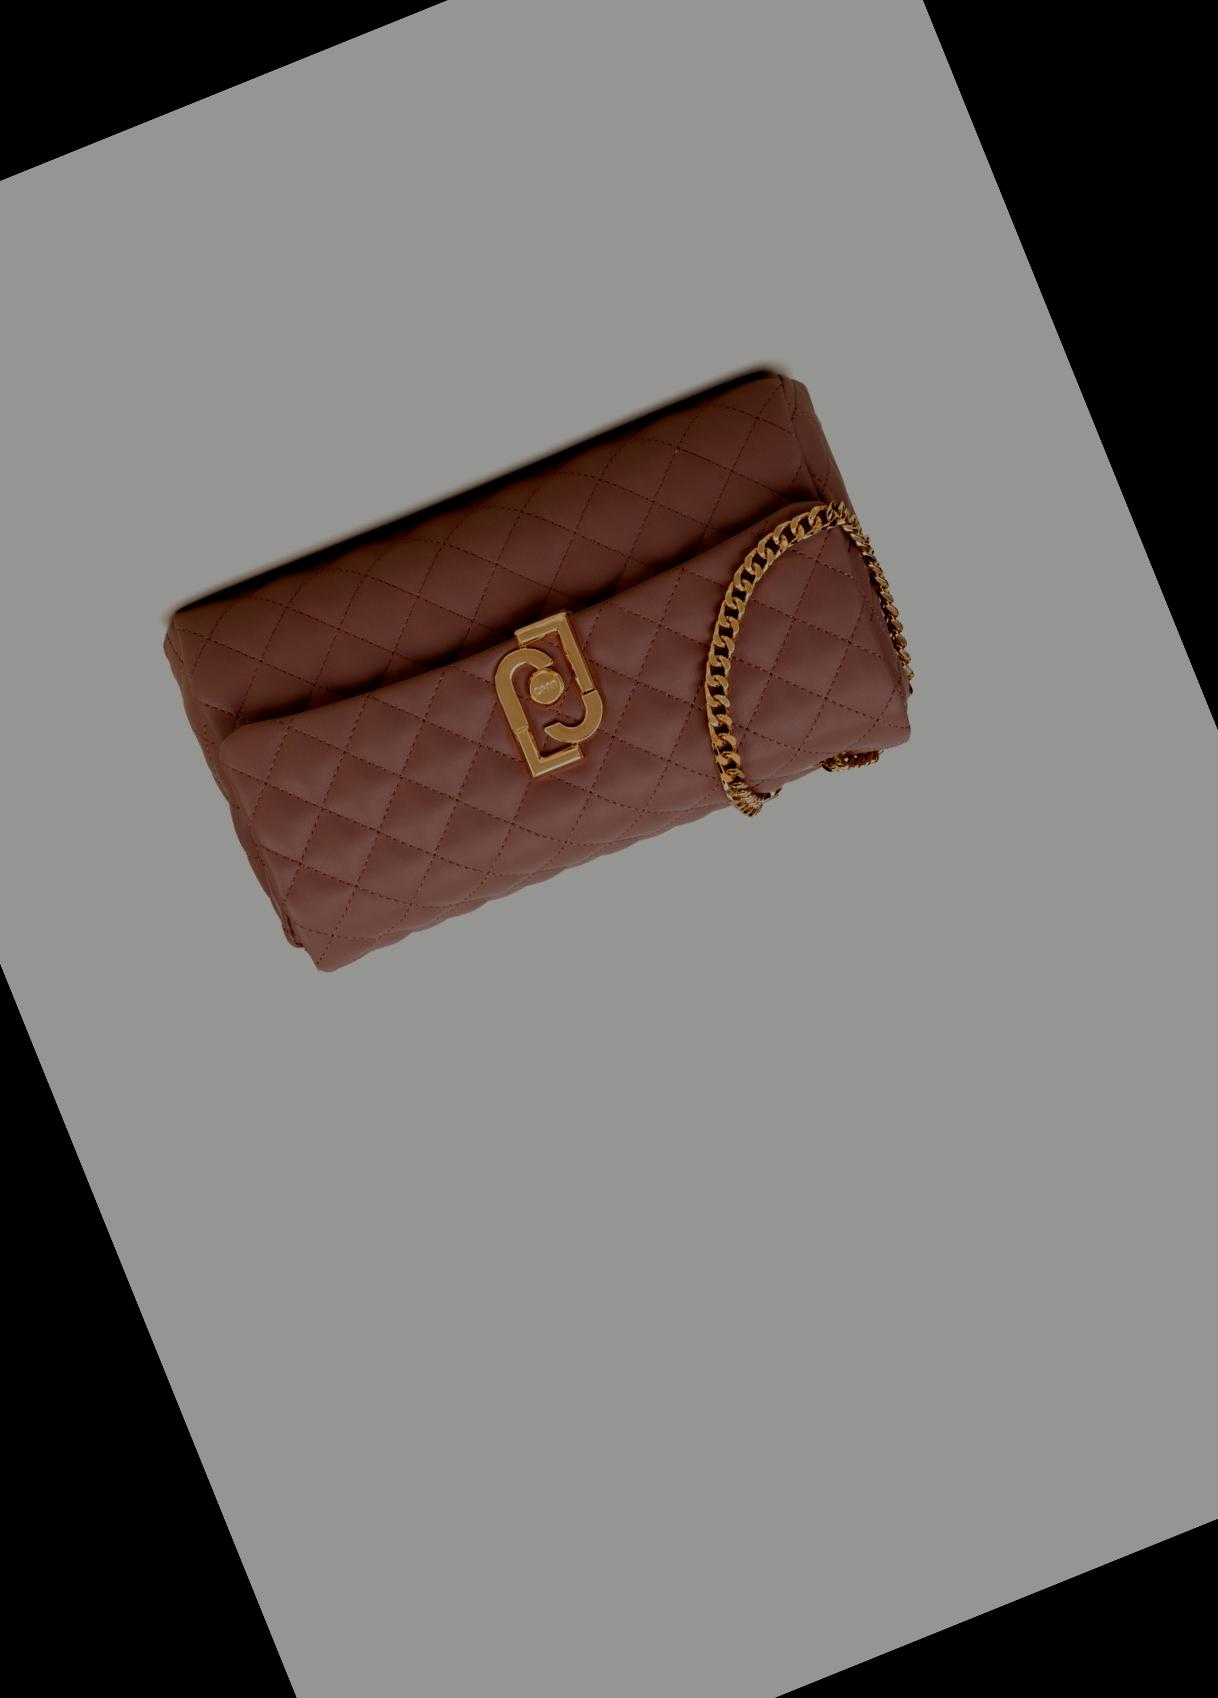LIU-JO: (473, 609, 620, 780)
